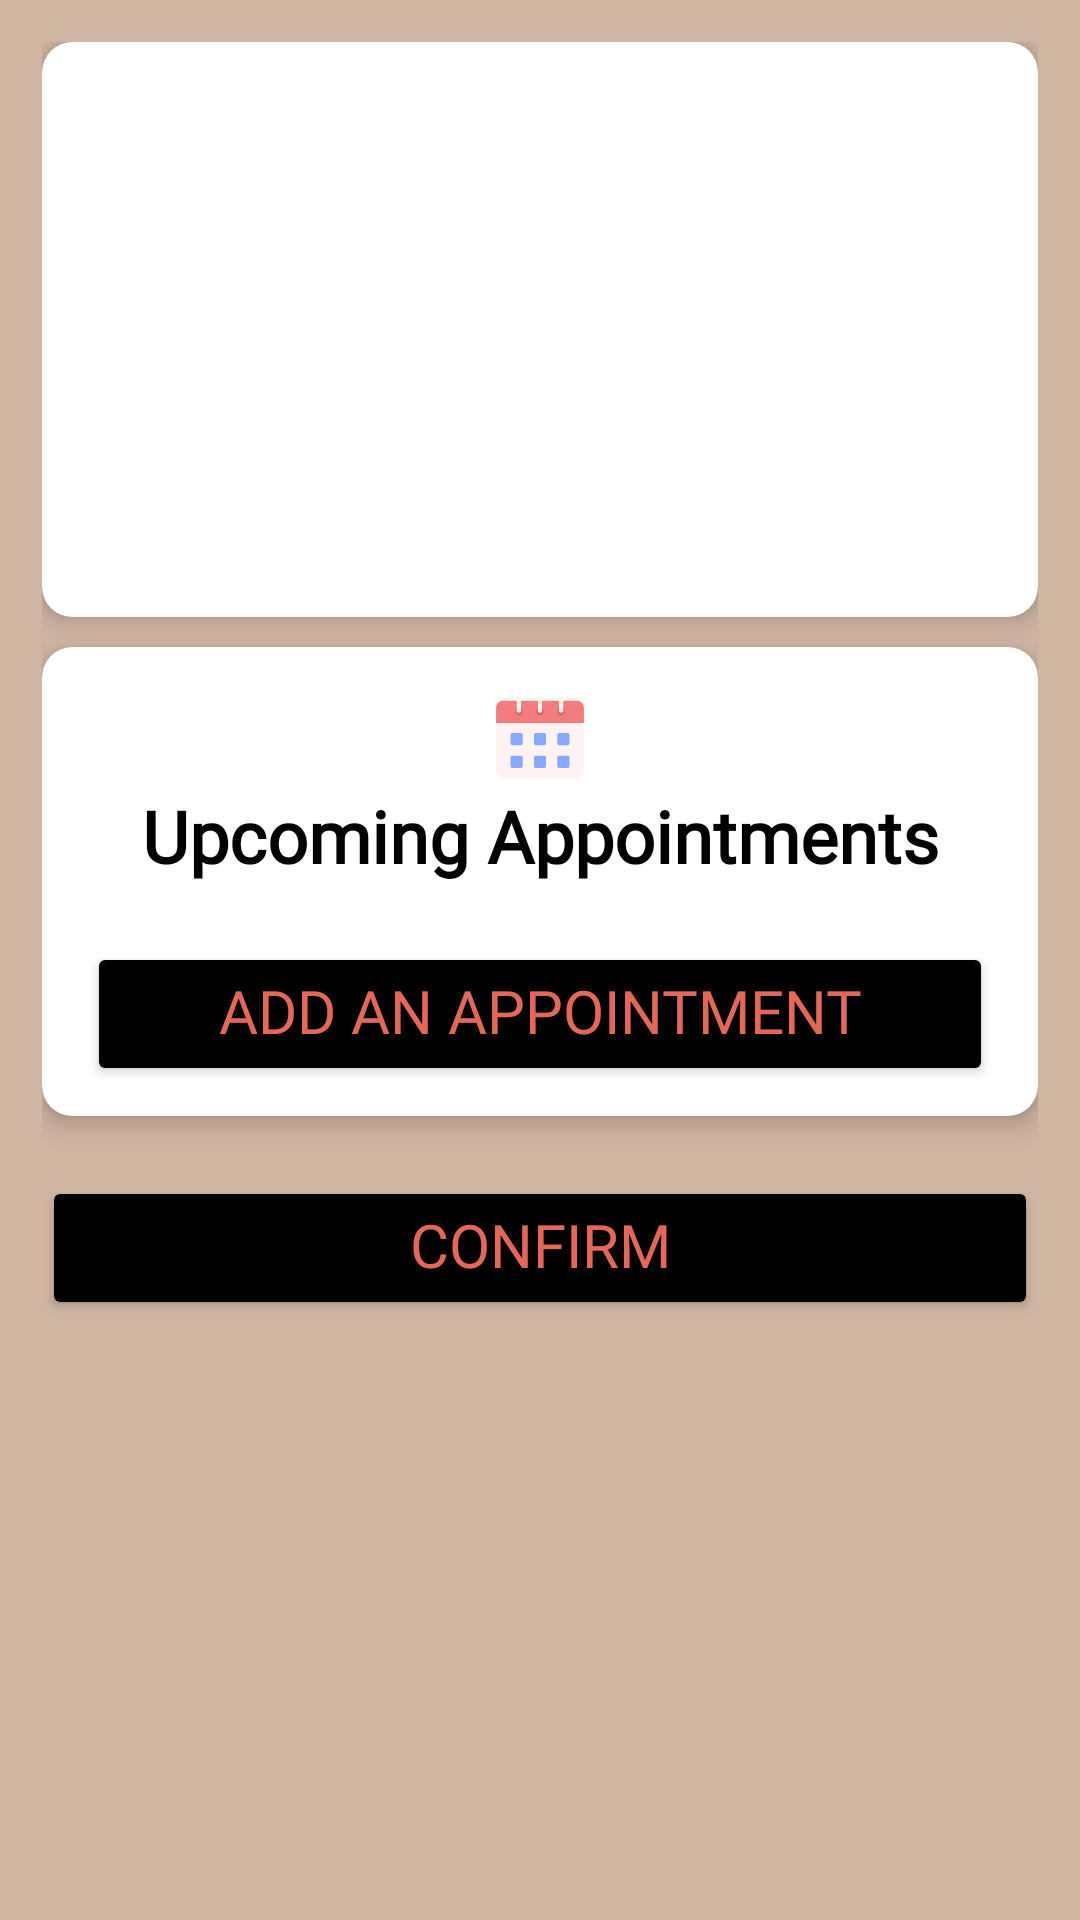

Where to tap for icons on this 1080 × 1920 app screen, as (x=x, y=y):
schedule: (x=540, y=737)
